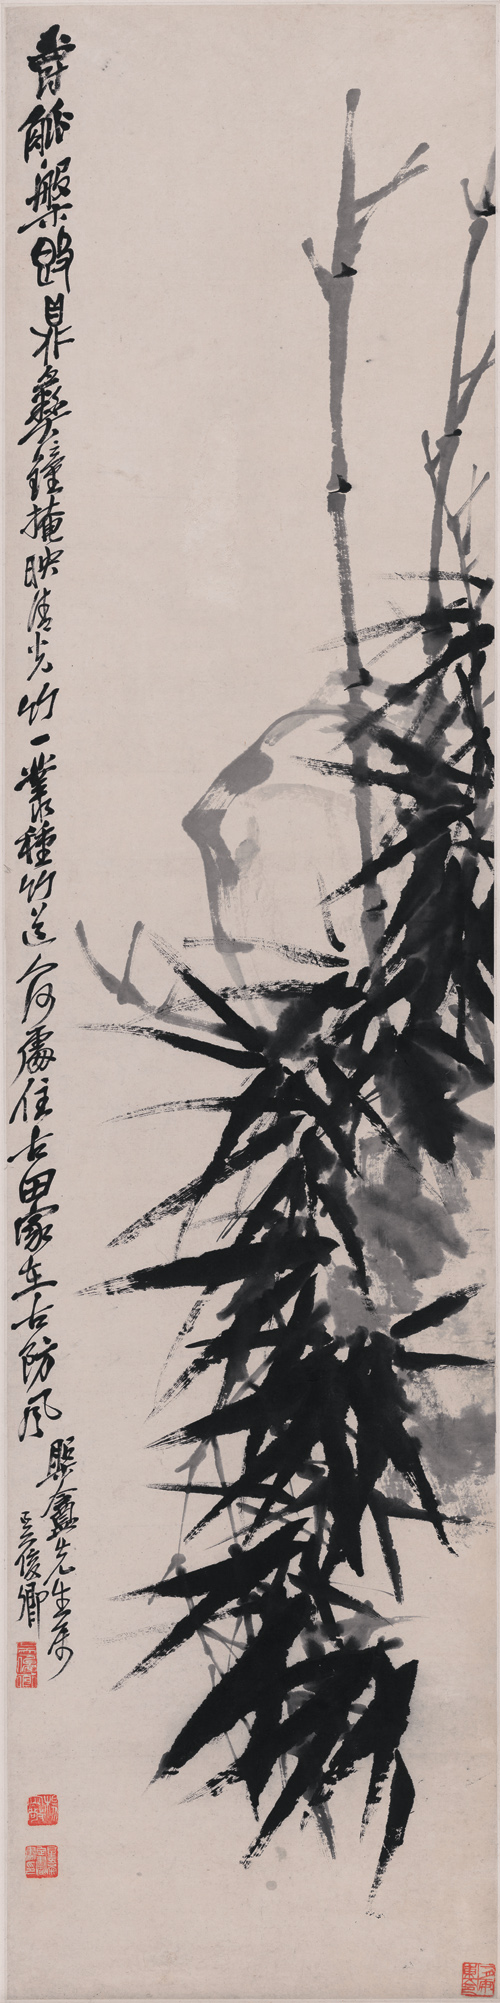bamboo: (104, 966, 457, 1877), (303, 126, 500, 1101)
hill: (185, 669, 426, 984)
